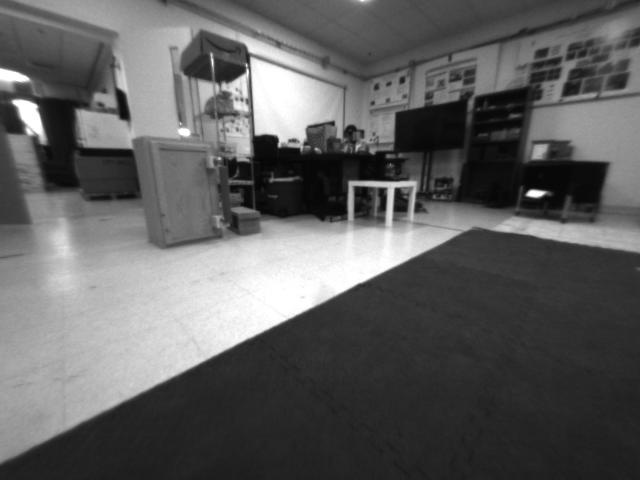coffee_pot: (375, 149, 401, 181)
